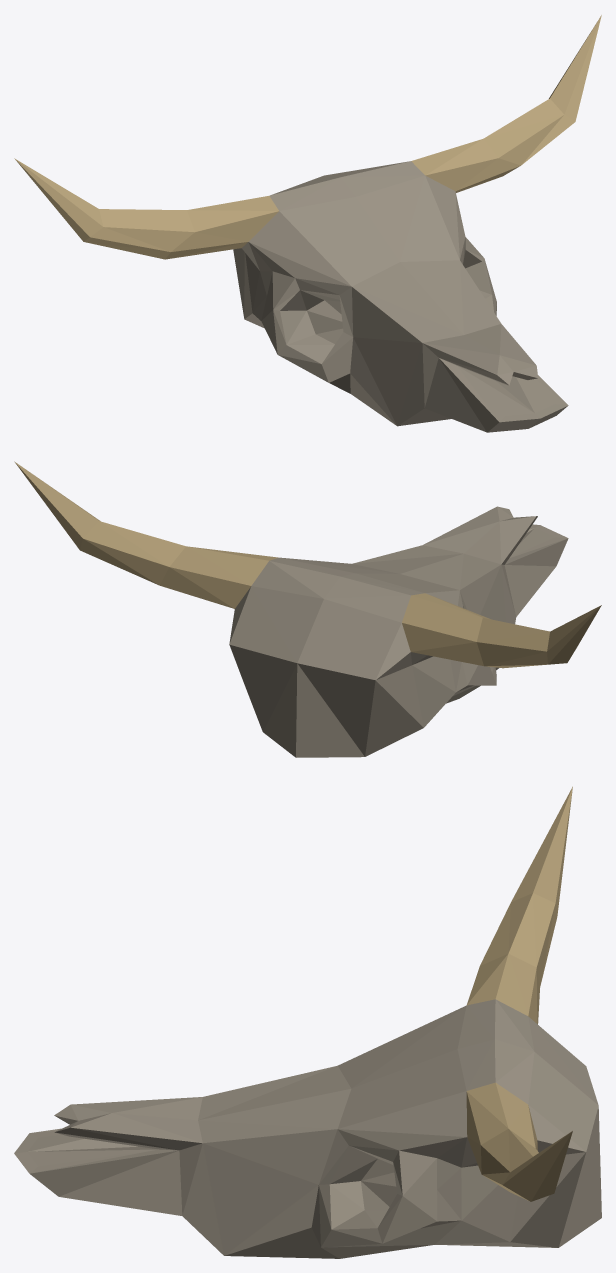
The model's file is Skull_Cow.fbx.
The picture shows the model from 3 angles, top to bottom: view 1: azimuth 30°, elevation 25°; view 2: azimuth 150°, elevation 25°; view 3: azimuth 270°, elevation 25°; orthographic projection. The views are drawn at different scales.
Parts seen in each view (by area): view 1: SM_Prop_Cow_Skull_01; view 2: SM_Prop_Cow_Skull_01; view 3: SM_Prop_Cow_Skull_01.
Part boxes in pixels (left/top/right/bottom): SM_Prop_Cow_Skull_01: left=14, top=15, right=601, bottom=432; SM_Prop_Cow_Skull_01: left=14, top=461, right=601, bottom=757; SM_Prop_Cow_Skull_01: left=14, top=786, right=601, bottom=1258.
Size of the model in its own units: 115 by 41.81 by 82.81.
